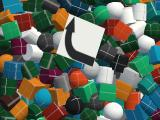Right: (56, 14, 105, 68)
